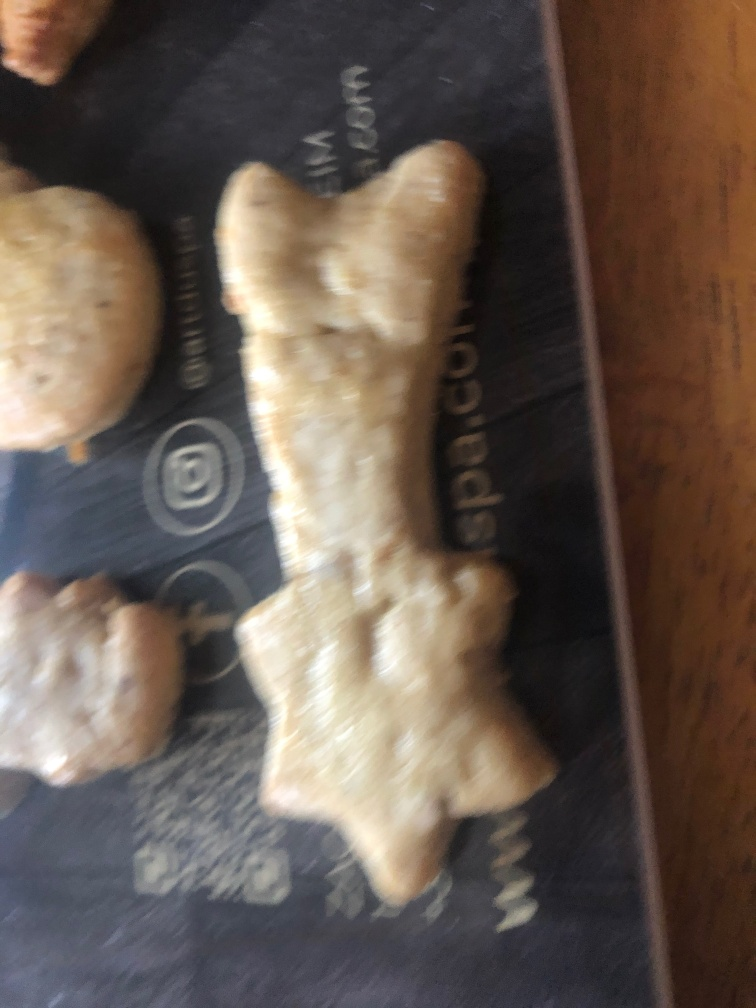shooting star: (194, 125, 571, 907)
